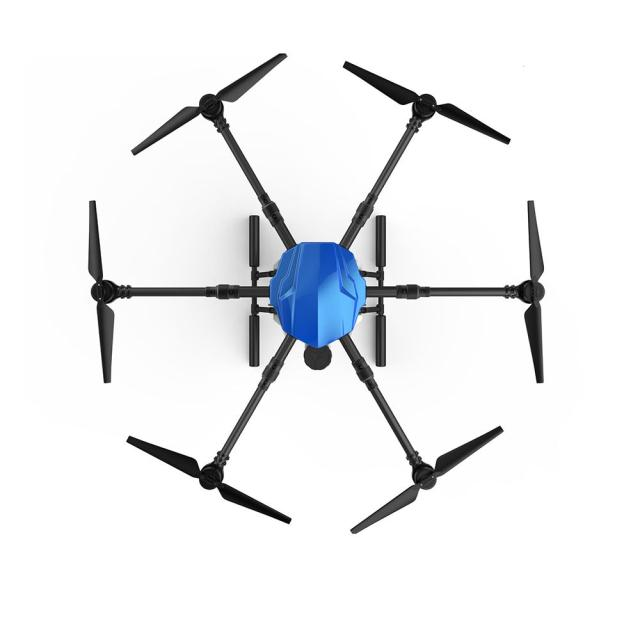drone: (17, 53, 589, 538)
